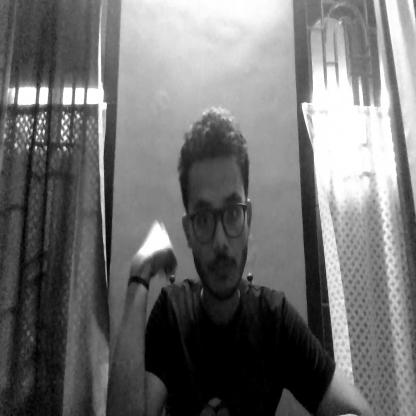Normal: (169, 104, 252, 298)
